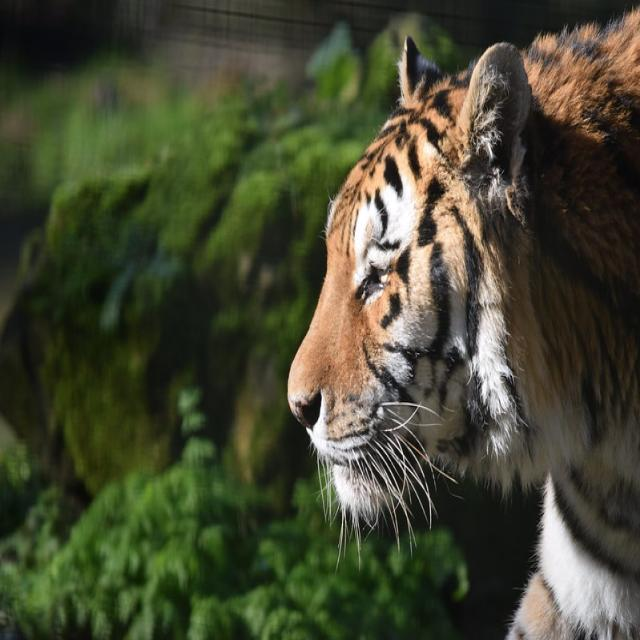Tiger: (284, 0, 638, 635)
